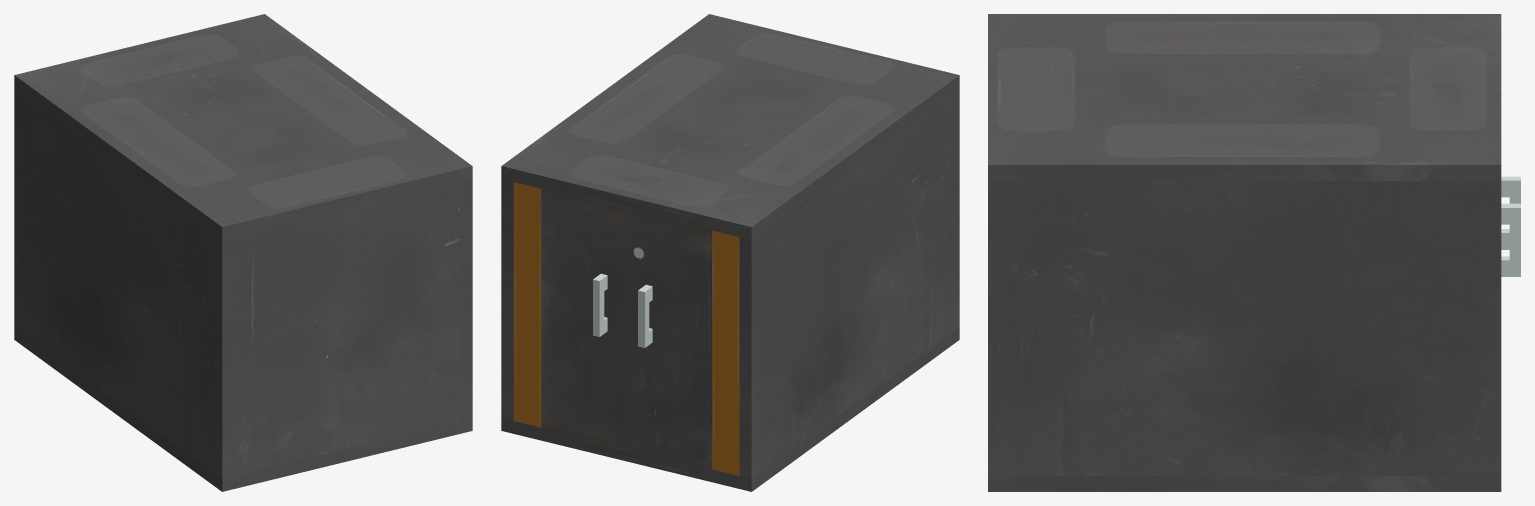
Rendered from GOInc_Box.fbx.
3 renders of one model, left to right at view 1: azimuth 30°, elevation 25°; view 2: azimuth 150°, elevation 25°; view 3: azimuth 270°, elevation 25°, orthographic. The views are drawn at different scales.
Visible parts, largest first — view 1: ServerRoomSet_A_LOD0.mo; view 2: ServerRoomSet_A_LOD0.mo; view 3: ServerRoomSet_A_LOD0.mo.
Boxes of the visible parts, x1,y1,x2,y2 form: ServerRoomSet_A_LOD0.mo: (14,14,472,491); ServerRoomSet_A_LOD0.mo: (501,14,959,491); ServerRoomSet_A_LOD0.mo: (988,14,1520,491).
Size of the model in its own units: 105 by 106 by 157.
